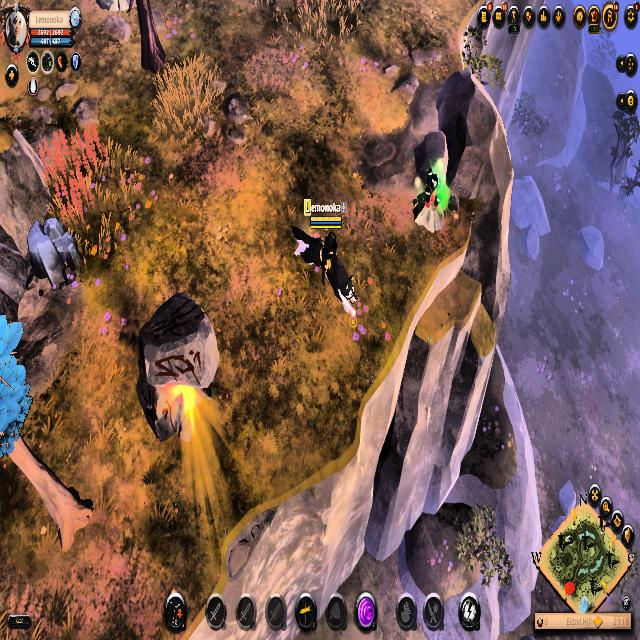ore tier 5: (409, 166, 446, 236)
rock tier 4: (22, 214, 84, 292)
